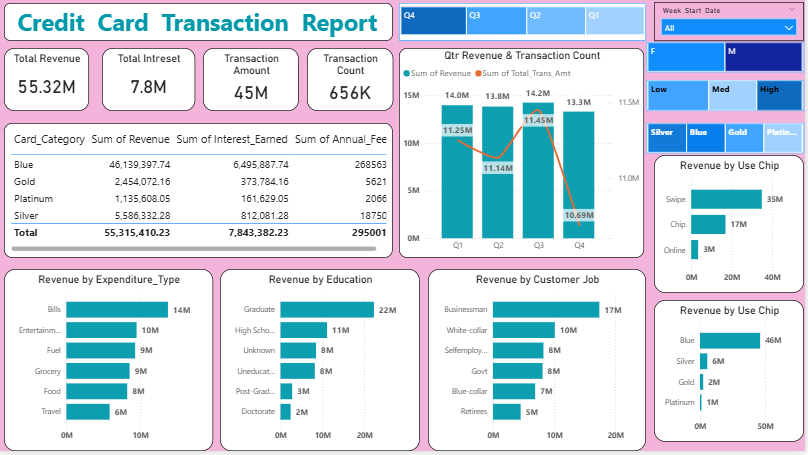

The page's visual inventory and layout, read from the dashboard file:
{"tool":"powerbi","page":{"name":"CC Transaction","canvas":[1280,720],"ordinal":1},"visuals":[{"type":"textbox","box":[9.5,9.5,617.5,60.3],"z":0},{"type":"lineStackedColumnComboChart","title":"Qtr Revenue & Transaction Count","fields":{"Category":["cc_detail.Qtr"],"Y":["Sum(cc_detail.Revenue)"],"Y2":["Sum(cc_detail.Total_Trans_Amt)"]},"box":[636.5,81,388.9,333.3],"z":1000},{"type":"clusteredBarChart","title":"Revenue by Expenditure_Type","fields":{"Y":["Sum(cc_detail.Revenue)"],"Category":["cc_detail.Exp_Type"]},"box":[9.5,431.7,331.7,288.9],"z":2000},{"type":"clusteredBarChart","title":"Revenue by Education","fields":{"Y":["Sum(cc_detail.Revenue)"],"Category":["cust_detail.Education_Level"]},"box":[352.4,431.7,317.5,288.9],"z":3000},{"type":"clusteredBarChart","title":"Revenue by Customer Job","fields":{"Y":["Sum(cc_detail.Revenue)"],"Category":["cust_detail.Customer_Job"]},"box":[682.5,431.7,346,288.9],"z":4000},{"type":"clusteredBarChart","title":"Revenue by Use Chip","fields":{"Y":["Sum(cc_detail.Revenue)"],"Category":["cc_detail.Use_Chip"]},"box":[1041.3,266.7,238.1,219],"z":5000},{"type":"clusteredBarChart","title":"Revenue by Use Chip","fields":{"Y":["Sum(cc_detail.Revenue)"],"Category":["cc_detail.Card_Category"]},"box":[1041.3,494.6,238.1,225.4],"z":6000},{"type":"tableEx","fields":{"Values":["cc_detail.Card_Category","Sum(cc_detail.Revenue)","Sum(cc_detail.Interest_Earned)","Sum(cc_detail.Annual_Fees)"]},"box":[9.5,200,617.5,214.3],"z":7000},{"type":"card","title":"Total Revenue","fields":{"Values":["Sum(cc_detail.Revenue)"]},"box":[9.5,81,134.9,100],"z":8000},{"type":"card","title":"Total Intreset","fields":{"Values":["Sum(cc_detail.Interest_Earned)"]},"box":[165.1,81,147.6,100],"z":9000},{"type":"card","title":"Transaction Count","fields":{"Values":["Sum(cc_detail.Total_Trans_Ct)"]},"box":[490.5,81,136.5,100],"z":10000},{"type":"card","title":"Transaction Amount","fields":{"Values":["Sum(cc_detail.Total_Trans_Amt)"]},"box":[325.4,81,152.4,100],"z":11000},{"type":"treemap","fields":{"Group":["cc_detail.Qtr"],"Values":["Avg(cc_detail.Client_Num)"]},"box":[636.5,9.5,392.1,60.3],"z":12000},{"type":"treemap","fields":{"Values":["Avg(cc_detail.Client_Num)"],"Group":["cust_detail.Gender"]},"box":[1028.6,81,250.8,47.6],"z":13000},{"type":"treemap","fields":{"Values":["Sum(cc_detail.Client_Num)"],"Group":["cust_detail.IncomeGroup"]},"box":[1028.6,131.7,250.8,49.2],"z":14000},{"type":"treemap","fields":{"Values":["Avg(cc_detail.Client_Num)"],"Group":["cc_detail.Card_Category"]},"box":[1025.4,200,250.8,47.6],"z":15000},{"type":"slicer","fields":{"Values":["cc_detail.Week_Start_Date"]},"box":[1041.9,7.9,238.1,61.9],"z":16000}]}

Visuals, with their boxes in screenshot pixels (x1, y1, x2, y2), scaled from the page's 1280x720 canvas onto the 808x455 screenshot:
textbox: pyautogui.locateOnScreen(6, 6, 396, 44)
"Qtr Revenue & Transaction Count" lineStackedColumnComboChart: pyautogui.locateOnScreen(402, 51, 647, 262)
"Revenue by Expenditure_Type" clusteredBarChart: pyautogui.locateOnScreen(6, 273, 215, 454)
"Revenue by Education" clusteredBarChart: pyautogui.locateOnScreen(222, 273, 423, 454)
"Revenue by Customer Job" clusteredBarChart: pyautogui.locateOnScreen(431, 273, 649, 454)
"Revenue by Use Chip" clusteredBarChart: pyautogui.locateOnScreen(657, 169, 807, 307)
"Revenue by Use Chip" clusteredBarChart: pyautogui.locateOnScreen(657, 313, 807, 454)
tableEx - cc_detail.Card_Category x Sum(cc_detail.Revenue): pyautogui.locateOnScreen(6, 126, 396, 262)
"Total Revenue" card: pyautogui.locateOnScreen(6, 51, 91, 114)
"Total Intreset" card: pyautogui.locateOnScreen(104, 51, 197, 114)
"Transaction Count" card: pyautogui.locateOnScreen(310, 51, 396, 114)
"Transaction Amount" card: pyautogui.locateOnScreen(205, 51, 302, 114)
treemap - cc_detail.Qtr x Avg(cc_detail.Client_Num): pyautogui.locateOnScreen(402, 6, 649, 44)
treemap - Avg(cc_detail.Client_Num) x cust_detail.Gender: pyautogui.locateOnScreen(649, 51, 807, 81)
treemap - Sum(cc_detail.Client_Num) x cust_detail.IncomeGroup: pyautogui.locateOnScreen(649, 83, 807, 114)
treemap - Avg(cc_detail.Client_Num) x cc_detail.Card_Category: pyautogui.locateOnScreen(647, 126, 806, 156)
slicer - cc_detail.Week_Start_Date: pyautogui.locateOnScreen(658, 5, 807, 44)
